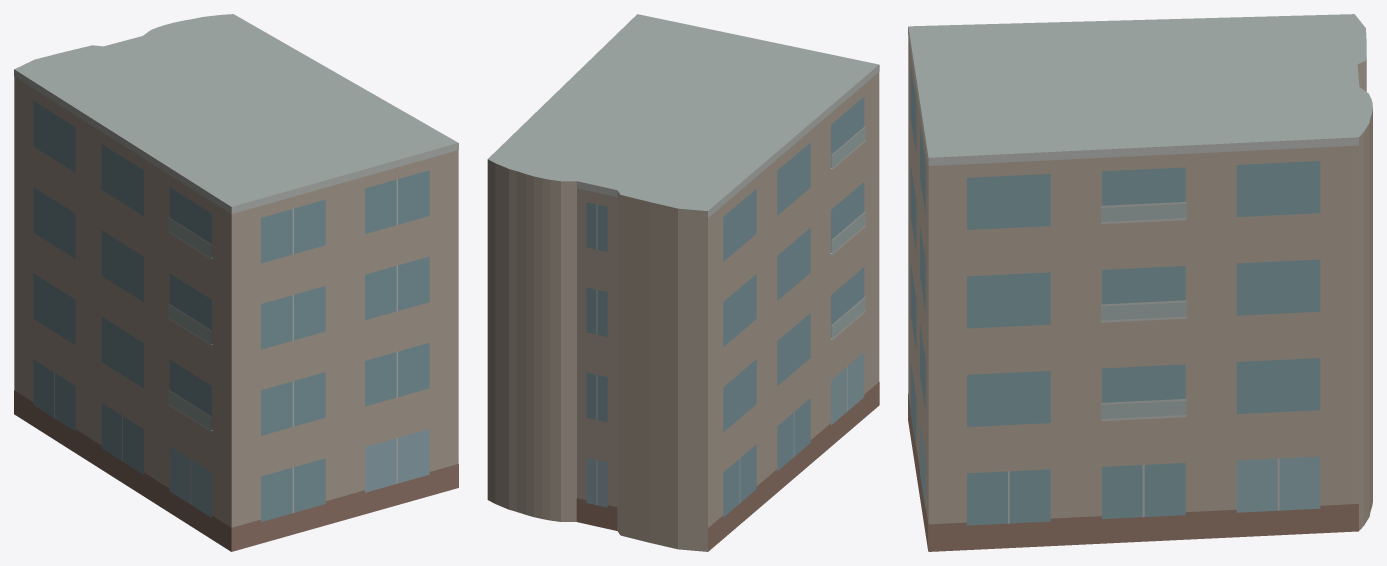
File: survey-upis-32755777.glb
The picture shows the model from 3 angles, left to right: view 1: azimuth 30°, elevation 25°; view 2: azimuth 150°, elevation 25°; view 3: azimuth 270°, elevation 25°; orthographic projection. The views are drawn at different scales.
Visible parts, largest first — view 1: survey-upis-32755777.tmp; view 2: survey-upis-32755777.tmp; view 3: survey-upis-32755777.tmp.
Boxes of the visible parts, bbox=[...] form: survey-upis-32755777.tmp: bbox=[14, 14, 458, 551]; survey-upis-32755777.tmp: bbox=[487, 14, 879, 551]; survey-upis-32755777.tmp: bbox=[908, 14, 1372, 551].
Size of the model in its own units: 9.17 by 11.7 by 12.51.
